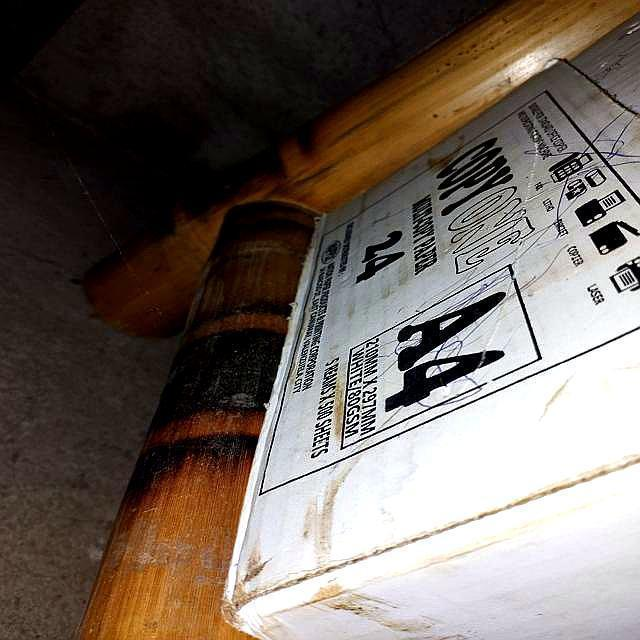Biodegradable: (210, 18, 640, 640)
